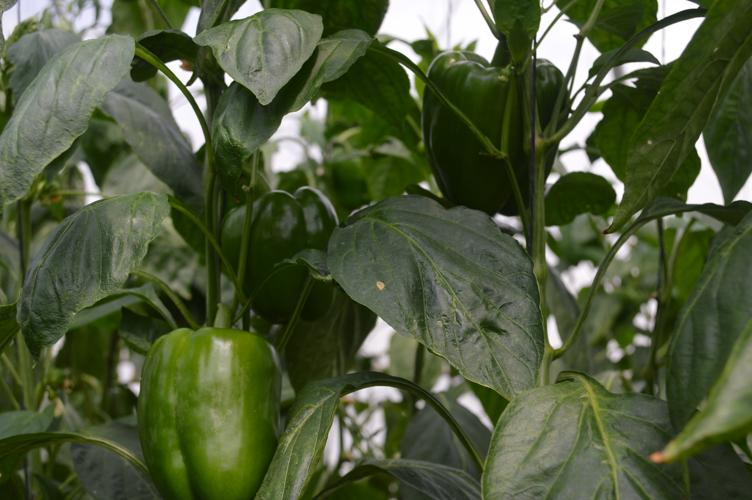BellPepper: (424, 57, 570, 216), (139, 327, 278, 484), (224, 186, 337, 313)
